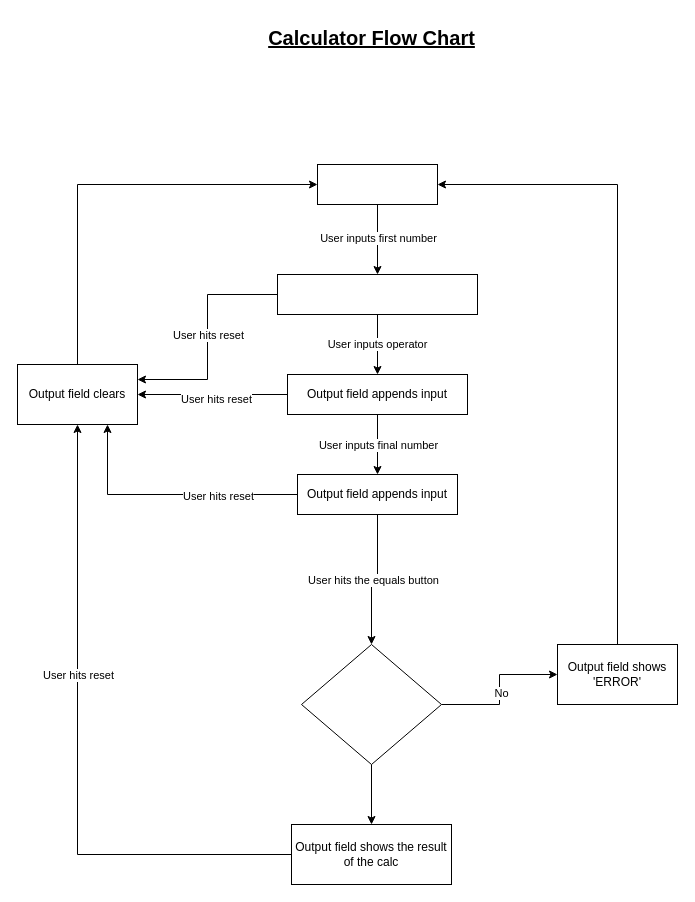
Image size: 695x902. Some labels were removed from this diagram. Each missing label, with the centre of its shape:
Landing Page: the point at 377,184
Output field first clears, then populates input: the point at 377,294
Output field is valid?: the point at 371,704
